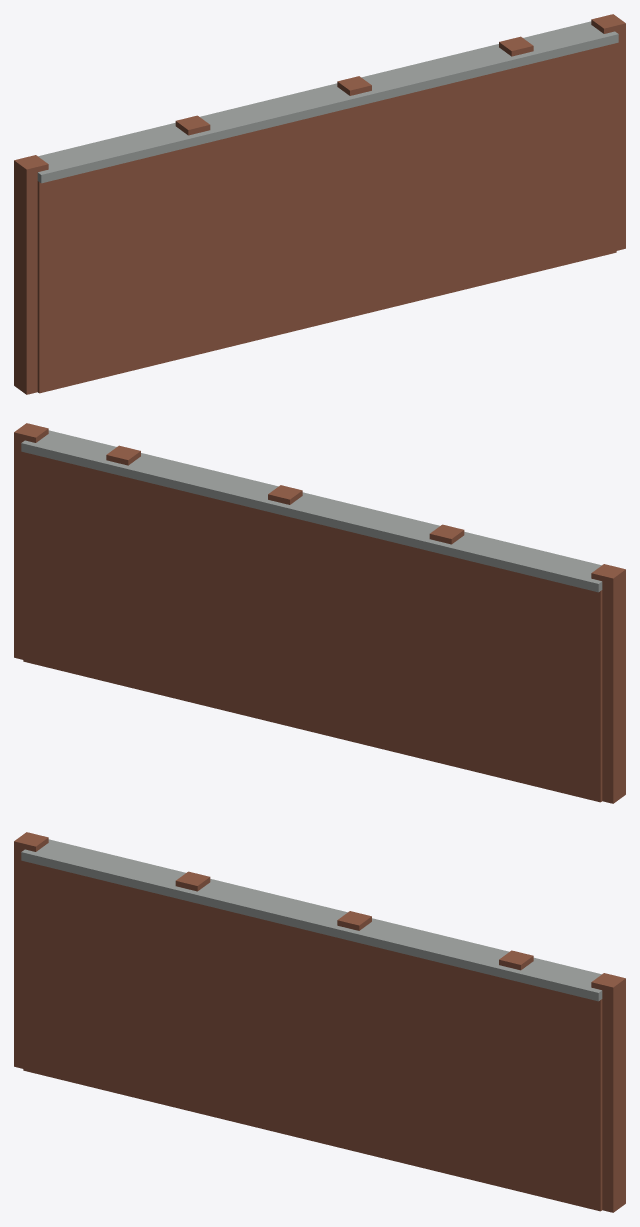
The picture shows the model from 3 angles, top to bottom: view 1: azimuth 30°, elevation 25°; view 2: azimuth 150°, elevation 25°; view 3: azimuth 330°, elevation 25°; orthographic projection.
Parts seen in each view (by area): view 1: Кирпичное; view 2: Кирпичное; view 3: Кирпичное.
Part boxes in pixels (x1,y1,x2,y2): Кирпичное: (14, 14, 625, 394); Кирпичное: (14, 423, 625, 803); Кирпичное: (14, 832, 625, 1212).
Size of the model in its own units: 5.19 by 1.87 by 0.3.
